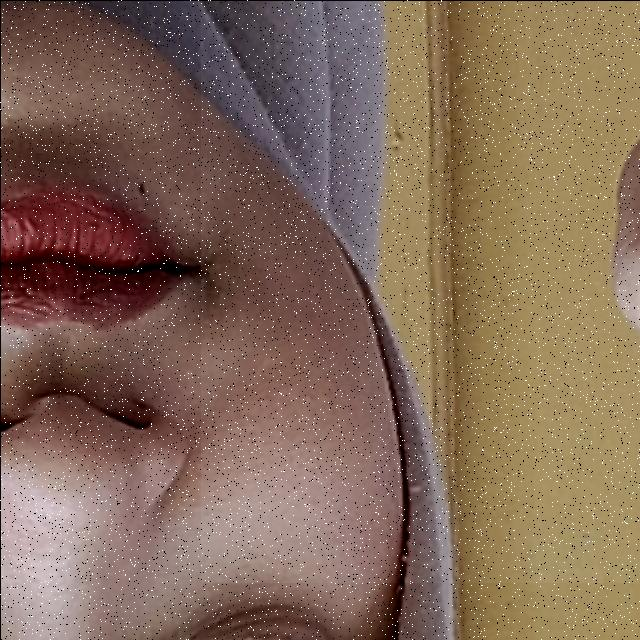baik: (200, 0, 640, 582)
